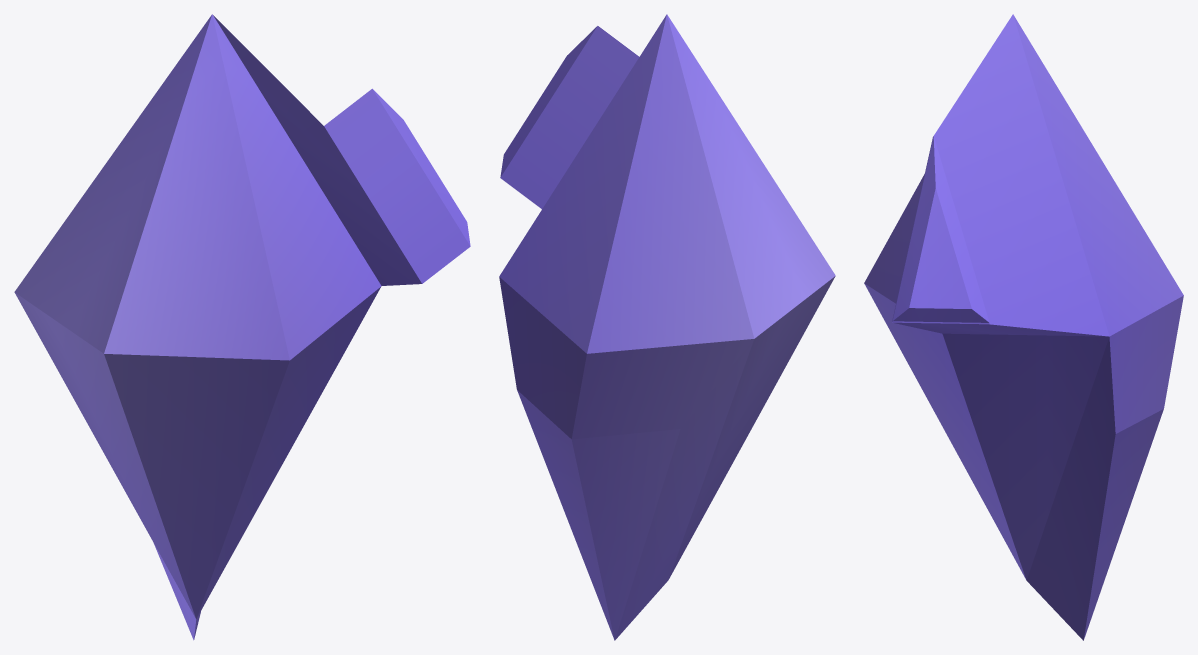
Rendered from T2crystal3.fbx.
3 views of the same model, side by side, from view 1: azimuth 30°, elevation 25°; view 2: azimuth 150°, elevation 25°; view 3: azimuth 270°, elevation 25° (orthographic). The views are drawn at different scales.
Visible parts, largest first — view 1: Cone.003; view 2: Cone.003; view 3: Cone.003.
Part boxes in pixels (x1,y1,x2,y2): Cone.003: [14, 14, 470, 640]; Cone.003: [499, 14, 835, 640]; Cone.003: [864, 14, 1183, 640].
Bounding box in the file's own units: 324 × 589 × 276.
